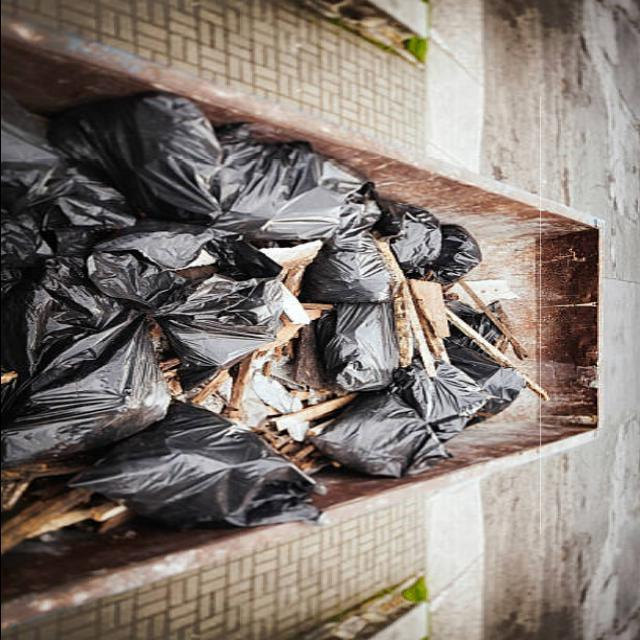Trashbag: (7, 246, 176, 456), (94, 404, 320, 539), (209, 119, 388, 248), (52, 84, 218, 219), (316, 402, 429, 480), (316, 302, 409, 389), (299, 235, 396, 315), (400, 356, 488, 412), (429, 224, 487, 286)
